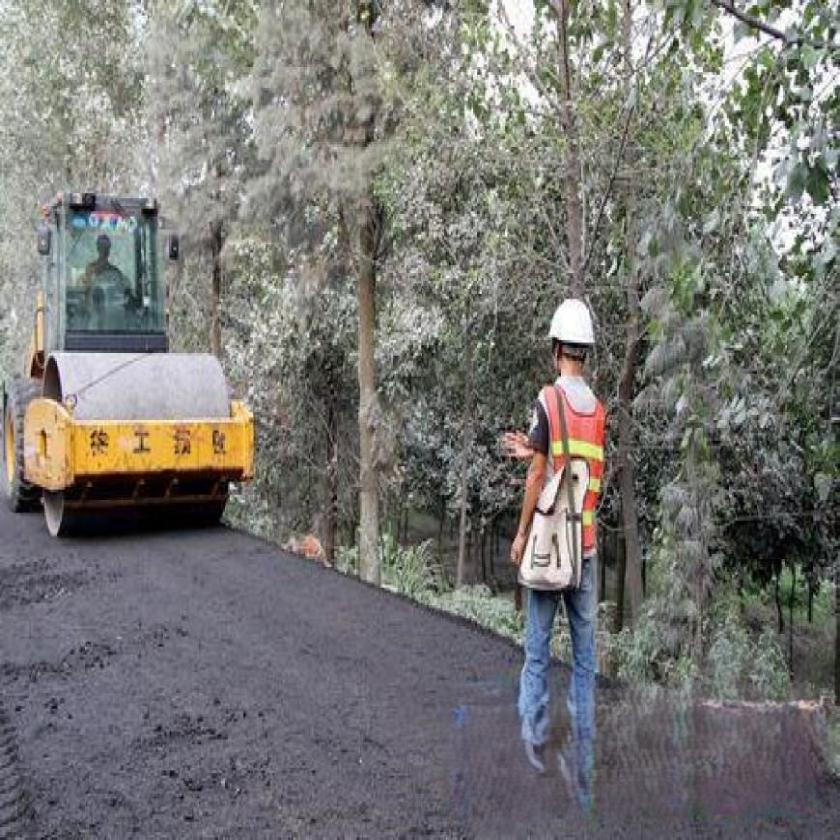Con_casco: (538, 296, 618, 378)
